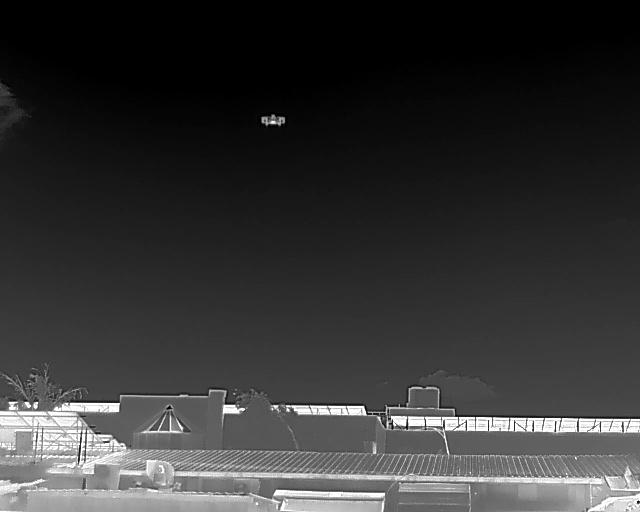fpv-drone: (260, 114, 285, 126)
